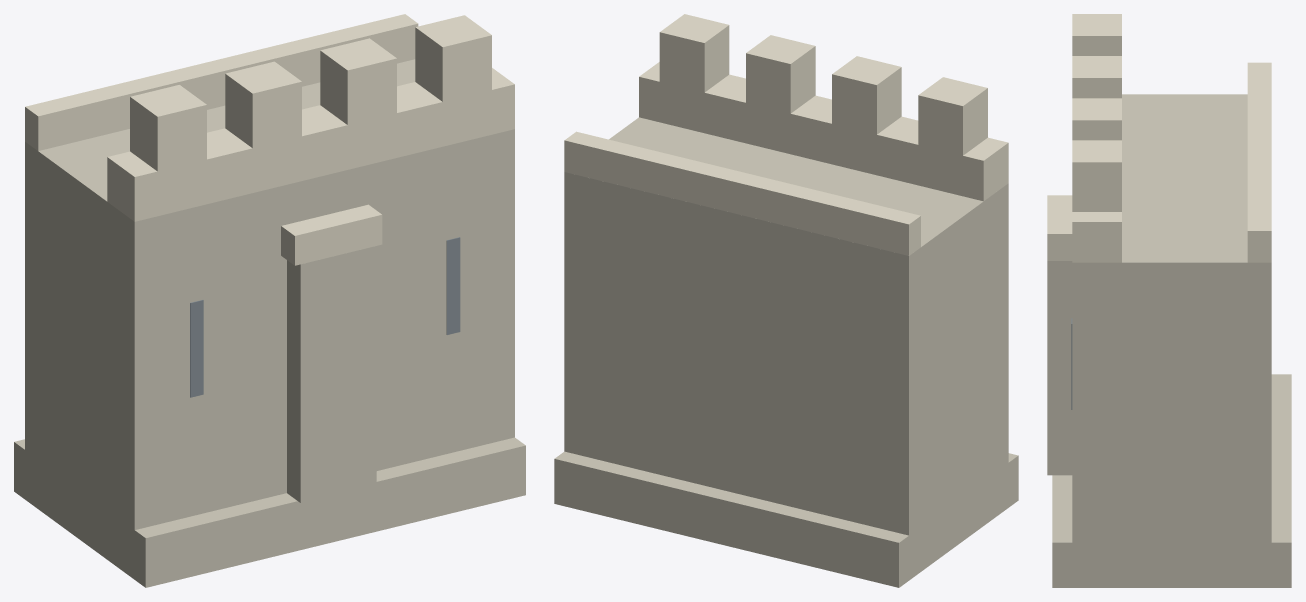
The model's file is assault-wall-bay-4-m.glb.
The picture shows the model from 3 angles, left to right: view 1: azimuth 30°, elevation 25°; view 2: azimuth 150°, elevation 25°; view 3: azimuth 270°, elevation 25°; orthographic projection. The views are drawn at different scales.
Parts seen in each view (by area): view 1: assault-wall-4m; view 2: assault-wall-4m; view 3: assault-wall-4m.
Boxes of the visible parts, <box> form: assault-wall-4m: <box>14,14,525,587</box>; assault-wall-4m: <box>554,14,1018,587</box>; assault-wall-4m: <box>1047,14,1291,587</box>.
Size of the model in its own units: 4 by 4.6 by 2.45.
